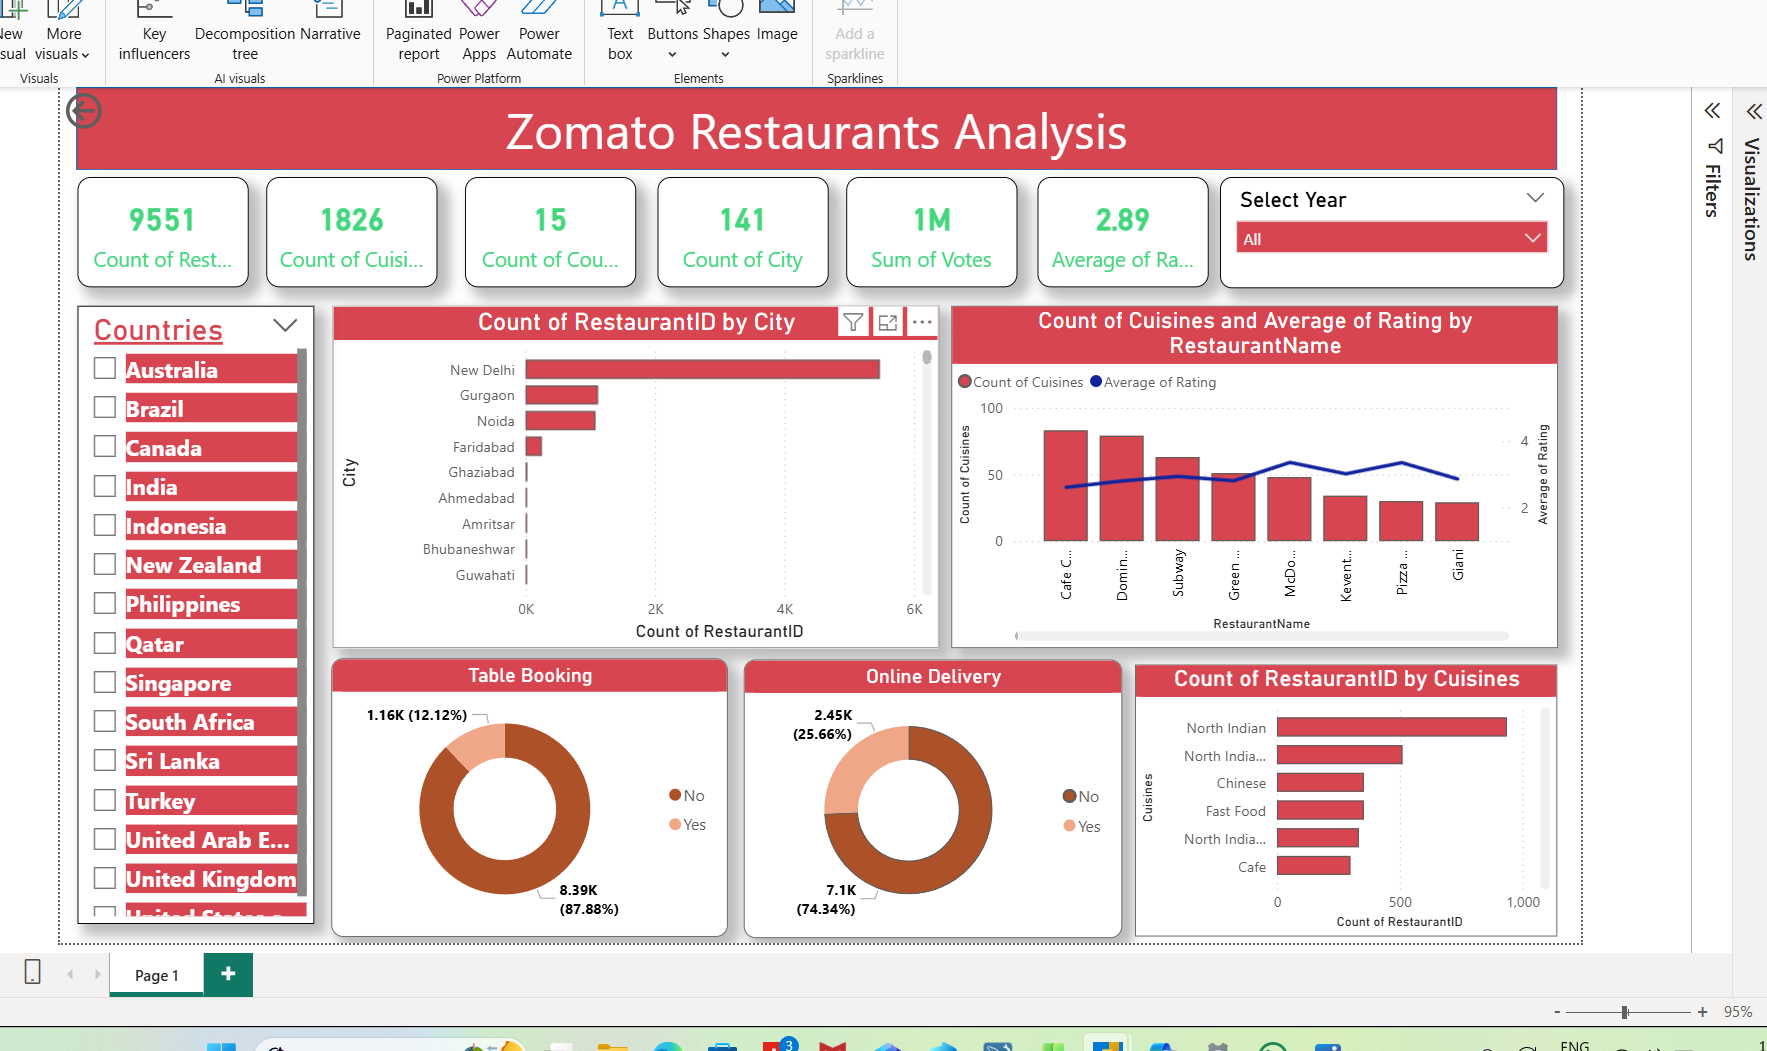

The dashboard page shown, as its layout file describes it:
{"tool":"powerbi","page":{"name":"Page 1","canvas":[1280,720],"ordinal":0},"visuals":[{"type":"card","fields":{"Values":["CountNonNull(Sheet1.RestaurantID)"]},"box":[14.2,75.5,144.1,93],"z":0},{"type":"card","fields":{"Values":["Count(Sheet1.Cuisines)"]},"box":[173.4,75.5,144.1,93],"z":1000},{"type":"card","fields":{"Values":["Count(Sheet1.CountryCode)"]},"box":[340.3,75.5,144.1,93],"z":2000},{"type":"card","fields":{"Values":["Count(Sheet1.City)"]},"box":[502.2,75.5,144.1,93],"z":3000},{"type":"card","fields":{"Values":["Sum(Sheet1.Votes)"]},"box":[661.4,75.5,144.1,93],"z":4000},{"type":"card","fields":{"Values":["Avg(Sheet1.Rating)"]},"box":[822,75.5,144.1,93],"z":5000},{"type":"textbox","box":[14,258,199,150],"z":6000},{"type":"shape","box":[13.7,0,1246,70],"z":7000},{"type":"barChart","fields":{"Category":["Sheet1.City"],"Y":["CountNonNull(Sheet1.RestaurantID)"]},"box":[229.2,183.9,510.5,288.2],"z":8000},{"type":"slicer","fields":{"Values":["Sheet2.country name"]},"box":[15.1,183.9,199,520.1],"z":9000},{"type":"lineStackedColumnComboChart","fields":{"Y2":["Avg(Sheet1.Rating)"],"Category":["Sheet1.RestaurantName"],"Y":["CountNonNull(Sheet1.Cuisines)"]},"box":[749.2,183.9,510.5,288.2],"z":10000},{"type":"donutChart","title":"Table Booking","fields":{"Y":["CountNonNull(Sheet1.Has_Table_booking)"],"Category":["Sheet1.Has_Table_booking"]},"box":[227.8,480.3,333.4,234.6],"z":11000},{"type":"donutChart","title":"Online Delivery","fields":{"Category":["Sheet1.Has_Online_delivery"],"Y":["CountNonNull(Sheet1.Has_Online_delivery)"]},"box":[575,481.6,318.4,234.6],"z":12000},{"type":"barChart","fields":{"Category":["Sheet1.Cuisines"],"Y":["Count(Sheet1.RestaurantID)"]},"box":[904.3,485.8,355.4,229.2],"z":13000},{"type":"actionButton","box":[0,0,100,40],"z":14000},{"type":"slicer","fields":{"Values":["Sheet1.Datekey_Opening"]},"box":[975.6,75.5,289.5,93.3],"z":15000}]}

Visuals, with their boxes on the page's 1280x720 design canvas (x1, y1, x2, y2). These are canvas units, not pixel positions in the 1767x1051 screenshot, which may show the page scaled, cropped or inside an application window:
card - CountNonNull(Sheet1.RestaurantID): locate(14, 76, 158, 168)
card - Count(Sheet1.Cuisines): locate(173, 76, 318, 168)
card - Count(Sheet1.CountryCode): locate(340, 76, 484, 168)
card - Count(Sheet1.City): locate(502, 76, 646, 168)
card - Sum(Sheet1.Votes): locate(661, 76, 806, 168)
card - Avg(Sheet1.Rating): locate(822, 76, 966, 168)
textbox: locate(14, 258, 213, 408)
shape: locate(14, 0, 1260, 70)
barChart - Sheet1.City x CountNonNull(Sheet1.RestaurantID): locate(229, 184, 740, 472)
slicer - Sheet2.country name: locate(15, 184, 214, 704)
lineStackedColumnComboChart - Avg(Sheet1.Rating) x Sheet1.RestaurantName: locate(749, 184, 1260, 472)
"Table Booking" donutChart: locate(228, 480, 561, 715)
"Online Delivery" donutChart: locate(575, 482, 893, 716)
barChart - Sheet1.Cuisines x Count(Sheet1.RestaurantID): locate(904, 486, 1260, 715)
actionButton: locate(0, 0, 100, 40)
slicer - Sheet1.Datekey_Opening: locate(976, 76, 1265, 169)
